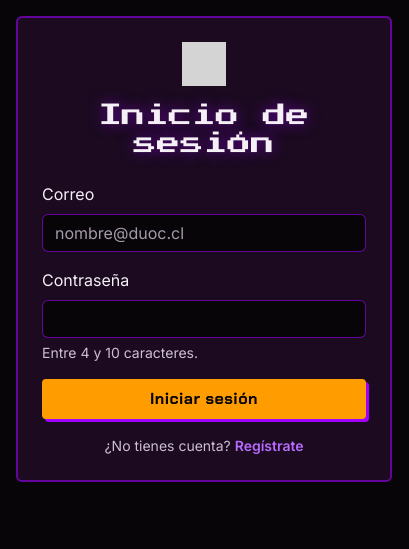
Test: Página Login › muestra errores de validación al enviar vacío
Step 1. Click the button "Iniciar sesión" → (204, 399), box [42,379,366,419]
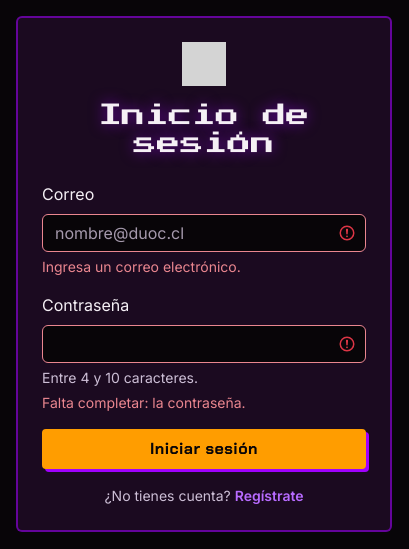
Check: the text "Ingresa un correo electrónico." is shown, box [42,258,241,275]
Check: the text "Falta completar: la contraseña." is shown, box [42,394,246,411]
